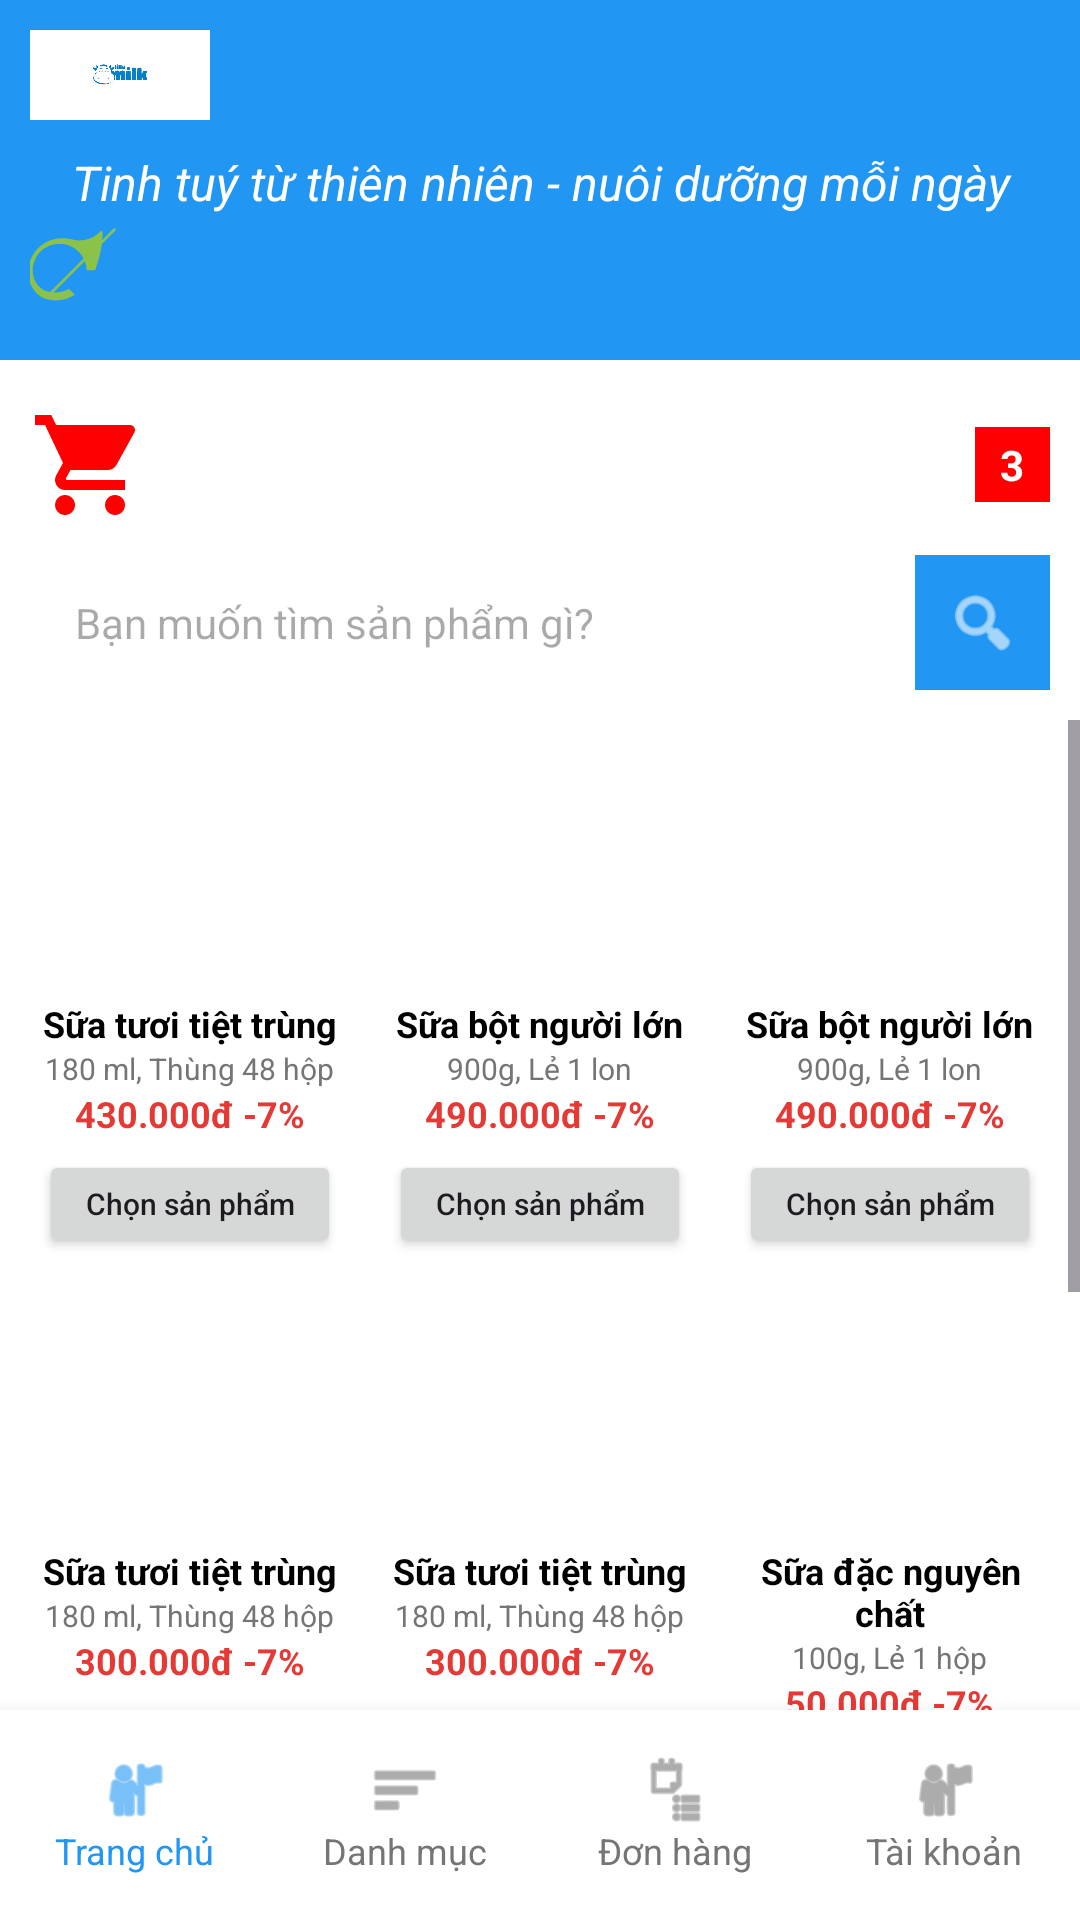

Icons on this 1080 x 1920 Android screen, each with the point to tap as (x=x, y=y):
agenda: (x=675, y=1790)
cart: (x=85, y=465)
myplaces: (x=136, y=1790), (x=946, y=1790)
search: (x=982, y=622)
sort by size: (x=405, y=1790)
